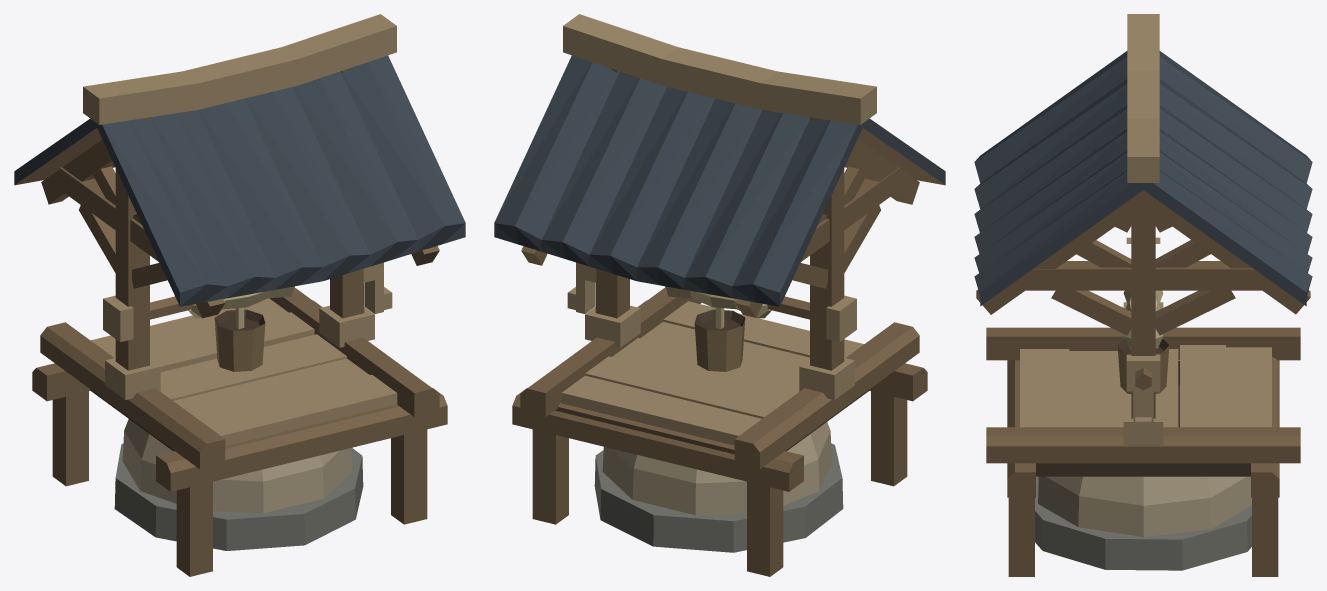
Rendered from roofed-well-43a2fc.glb.
The picture shows the model from 3 angles, left to right: view 1: azimuth 30°, elevation 25°; view 2: azimuth 150°, elevation 25°; view 3: azimuth 270°, elevation 25°; orthographic projection.
Parts seen in each view (by area): view 1: well, cover-boards, windlass-gear, pail; view 2: well, cover-boards, windlass-gear, pail; view 3: well, cover-boards, windlass-gear, pail.
Boxes of the visible parts, bbox=[...] form: well: bbox=[14, 14, 465, 576]; cover-boards: bbox=[90, 298, 314, 371]; windlass-gear: bbox=[103, 262, 392, 342]; pail: bbox=[214, 309, 265, 371]; well: bbox=[494, 14, 945, 576]; cover-boards: bbox=[561, 356, 787, 445]; windlass-gear: bbox=[567, 262, 856, 342]; pail: bbox=[694, 309, 745, 371]; well: bbox=[974, 14, 1312, 576]; cover-boards: bbox=[1180, 345, 1271, 427]; windlass-gear: bbox=[1123, 237, 1163, 436]; pail: bbox=[1117, 338, 1169, 393].
Size of the model in its own units: 2 by 2.84 by 2.
